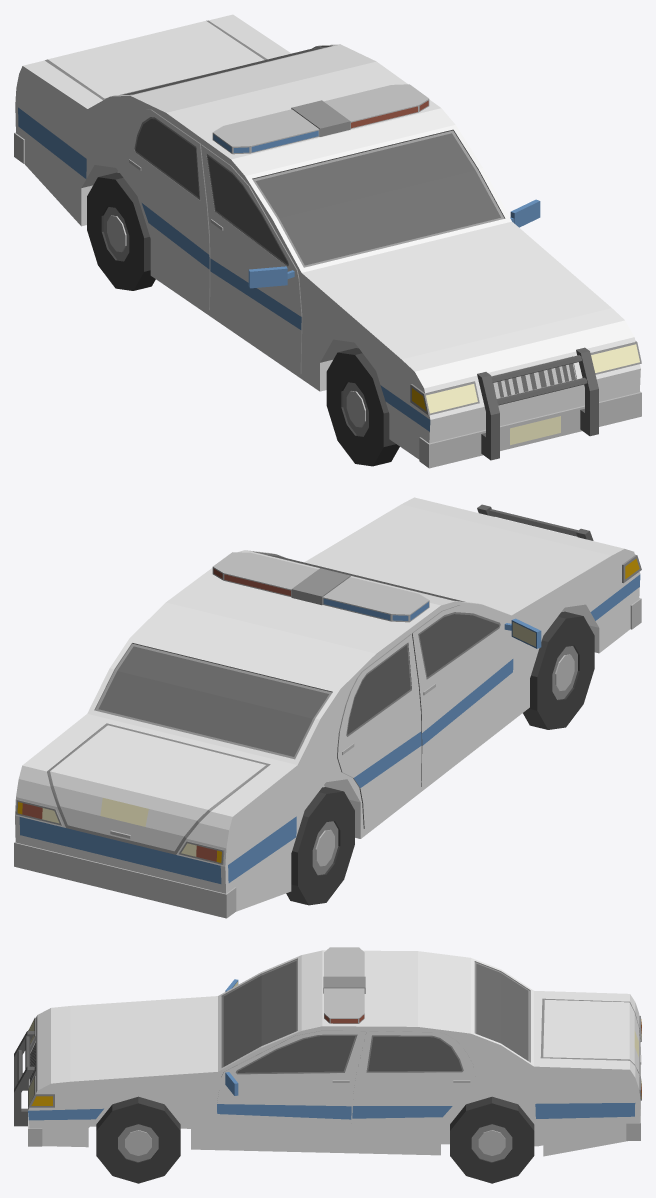
File: police kar_1.fbx
3 renders of one model, top to bottom at view 1: azimuth 30°, elevation 25°; view 2: azimuth 150°, elevation 25°; view 3: azimuth 270°, elevation 25°, orthographic. The views are drawn at different scales.
Parts seen in each view (by area): view 1: sfsd_1, Cylinder_2_9, Cylinder_2_1; view 2: sfsd_1, Cylinder_2_9, Cylinder_2_1; view 3: sfsd_1, Cylinder_2_8, Cylinder_2.
Boxes of the visible parts, x1=… form: sfsd_1: x1=14, y1=14, x2=641, y2=468; Cylinder_2_9: x1=326, y1=348, x2=399, y2=466; Cylinder_2_1: x1=87, y1=172, x2=155, y2=290; sfsd_1: x1=14, y1=497, x2=641, y2=918; Cylinder_2_9: x1=523, y1=611, x2=594, y2=729; Cylinder_2_1: x1=286, y1=787, x2=354, y2=905; sfsd_1: x1=14, y1=947, x2=641, y2=1156; Cylinder_2_8: x1=96, y1=1096, x2=180, y2=1183; Cylinder_2: x1=450, y1=1096, x2=534, y2=1183.
Size of the model in its own units: 201 by 147 by 511.
